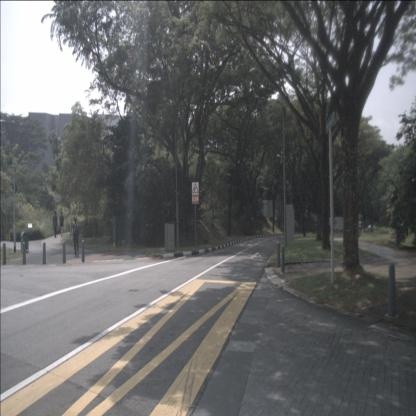human-pedestrian-adult: (71, 218, 80, 258), (59, 210, 65, 238), (52, 210, 58, 238)
